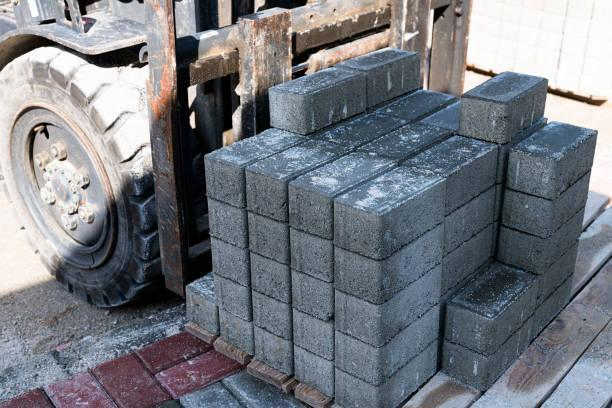Bricks: (381, 180, 446, 256), (296, 151, 396, 199), (454, 258, 534, 316), (343, 167, 439, 214), (434, 224, 494, 298), (399, 135, 497, 180), (441, 188, 500, 258), (249, 138, 347, 180), (442, 144, 496, 217), (383, 269, 435, 339), (314, 112, 407, 150), (361, 121, 451, 160), (382, 232, 438, 294), (387, 306, 442, 369), (384, 341, 436, 407), (485, 318, 531, 390), (271, 63, 361, 98), (492, 281, 537, 351), (305, 78, 366, 128), (214, 126, 303, 159), (370, 48, 423, 103), (383, 86, 458, 123), (552, 133, 596, 196), (514, 121, 593, 156), (547, 175, 590, 237), (466, 71, 541, 101), (543, 213, 579, 275), (199, 155, 239, 209), (504, 84, 544, 138), (535, 281, 570, 341), (543, 245, 578, 304), (338, 197, 371, 253), (461, 97, 502, 142), (508, 150, 554, 190), (445, 303, 487, 346), (291, 182, 324, 236), (245, 173, 283, 218), (342, 47, 411, 71), (340, 256, 376, 301), (506, 193, 546, 233), (339, 343, 381, 381), (440, 345, 477, 388), (337, 297, 371, 340), (246, 221, 283, 260), (500, 233, 540, 268), (268, 93, 303, 132), (213, 279, 244, 323), (205, 208, 245, 241), (209, 242, 249, 275), (295, 315, 326, 355), (251, 254, 284, 291), (342, 373, 376, 408), (253, 329, 284, 367), (296, 351, 328, 385), (292, 236, 322, 272), (253, 294, 282, 329), (296, 275, 324, 310), (188, 291, 207, 329), (227, 320, 250, 348)
